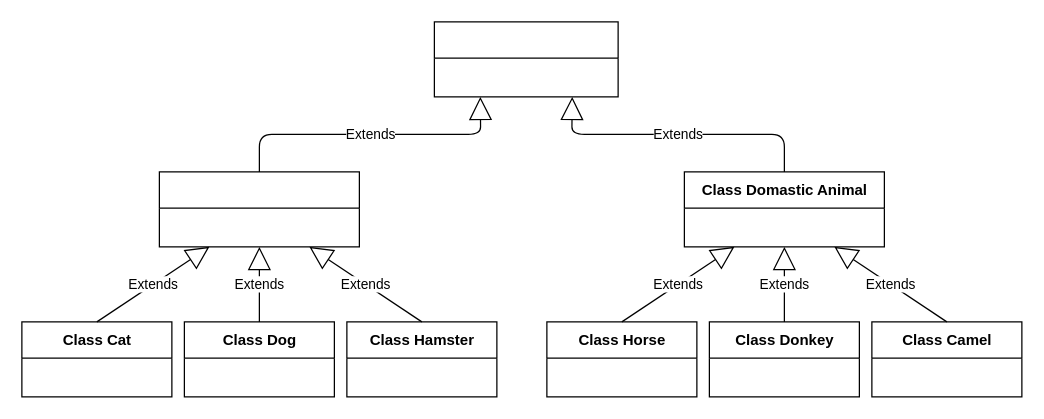
Image size: 1044x419. Some labels were removed from this diagram. Here are the shapes that lost their labels. From the top down, the centre of each, then its label:
the point at 525,59: Class Animal
the point at 258,209: Class Domestic Animal
